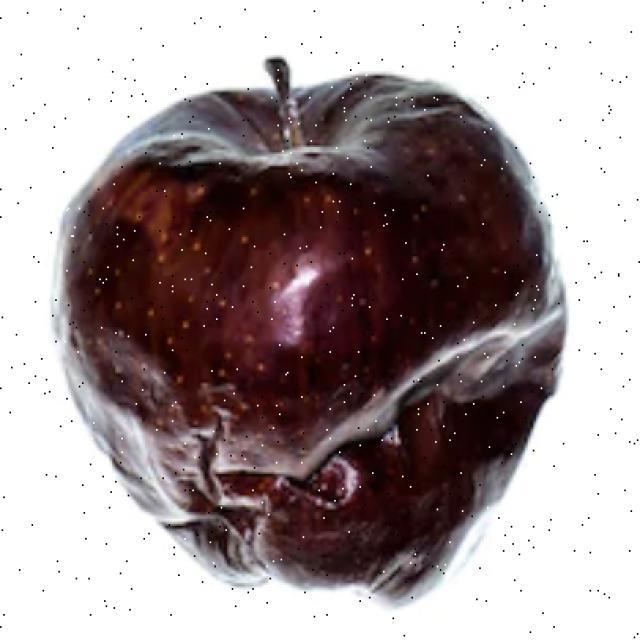Rotten: (65, 67, 555, 605)
